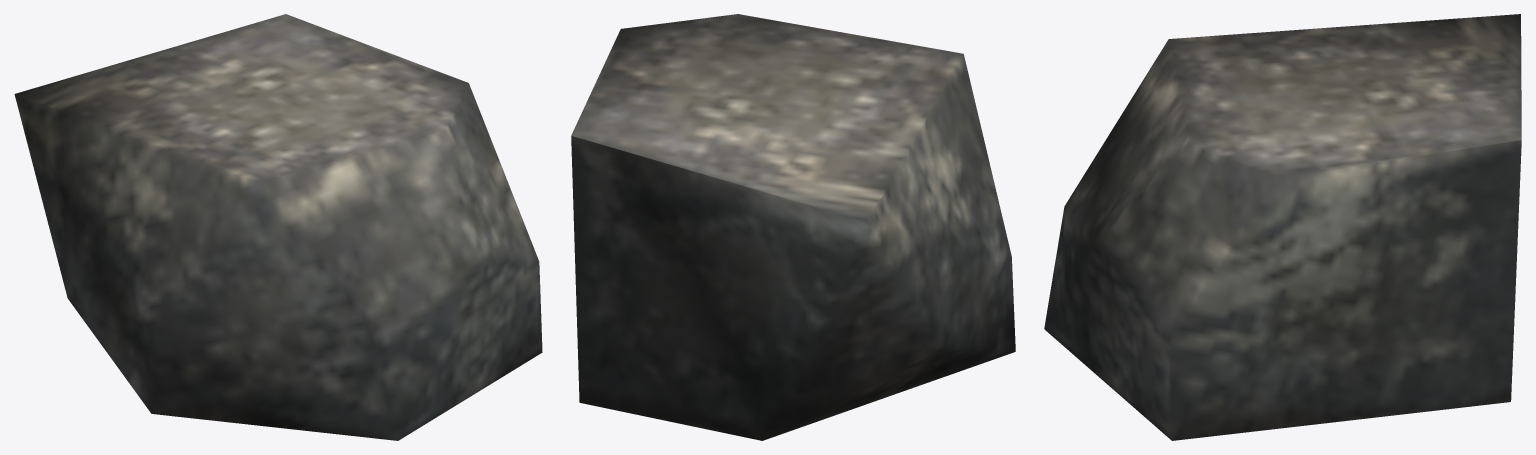
Rendered from Object_Rock1.obj.
3 renders of one model, left to right at view 1: azimuth 30°, elevation 25°; view 2: azimuth 150°, elevation 25°; view 3: azimuth 270°, elevation 25°, orthographic. The views are drawn at different scales.
Visible parts, largest first — view 1: smallrock1; view 2: smallrock1; view 3: smallrock1.
Boxes of the visible parts, x1,y1,x2,y2 form: smallrock1: (14, 14, 542, 440); smallrock1: (571, 14, 1015, 440); smallrock1: (1044, 14, 1521, 440).
Bounding box in the file's own units: 2.55 × 1.64 × 2.69.
Materials: 1 (1 with a texture image).
